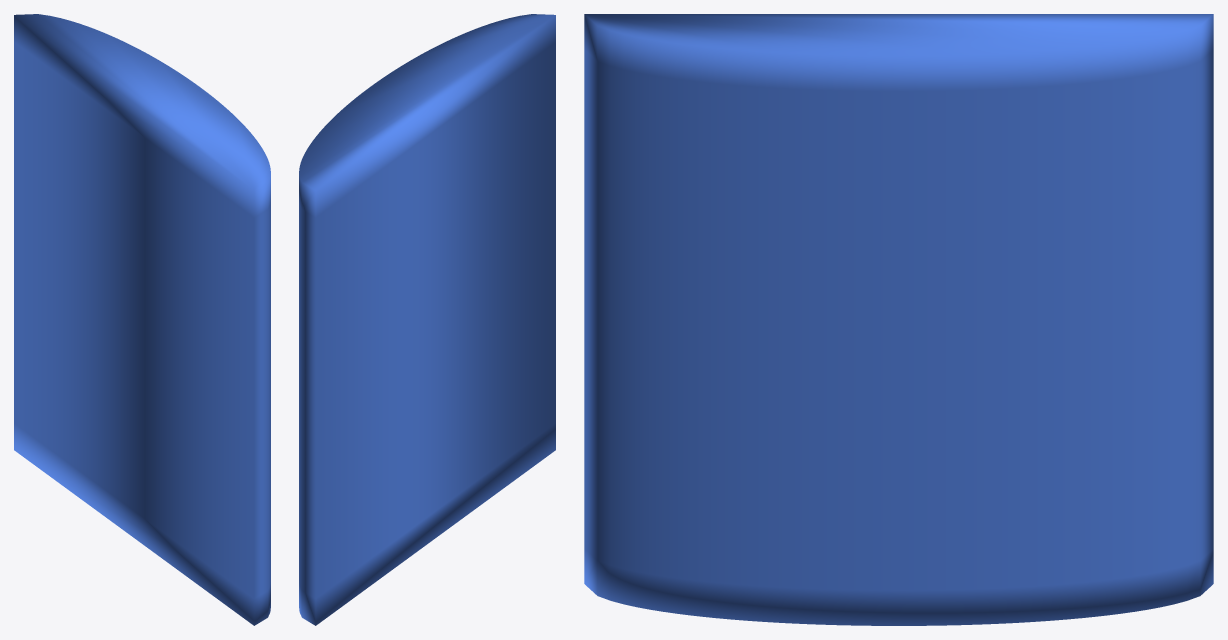
The model's file is cylindrical_lens.glb.
The picture shows the model from 3 angles, left to right: view 1: azimuth 30°, elevation 25°; view 2: azimuth 150°, elevation 25°; view 3: azimuth 270°, elevation 25°; orthographic projection. The views are drawn at different scales.
Parts seen in each view (by area): view 1: cylindrical_lens; view 2: cylindrical_lens; view 3: cylindrical_lens.
Boxes of the visible parts, box(x1,y1,x2,y2) form: cylindrical_lens: box(14, 14, 270, 625); cylindrical_lens: box(299, 14, 555, 625); cylindrical_lens: box(584, 14, 1213, 625).
Bounding box in the file's own units: 2 × 12.7 × 12.7.
